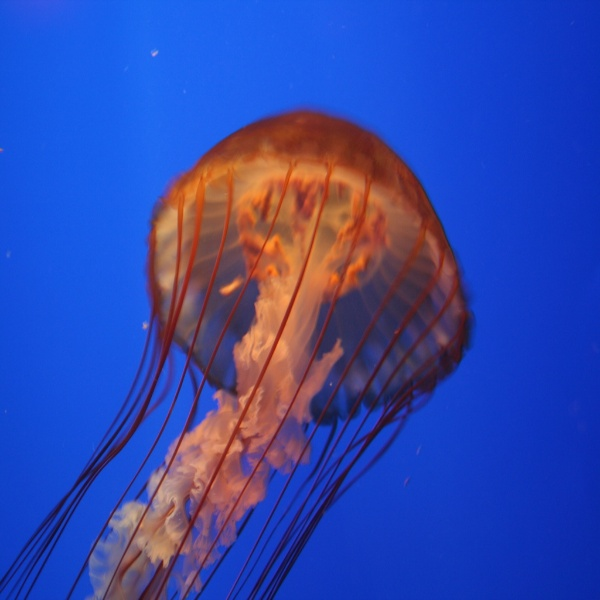Jellyfish: (0, 101, 478, 597)
